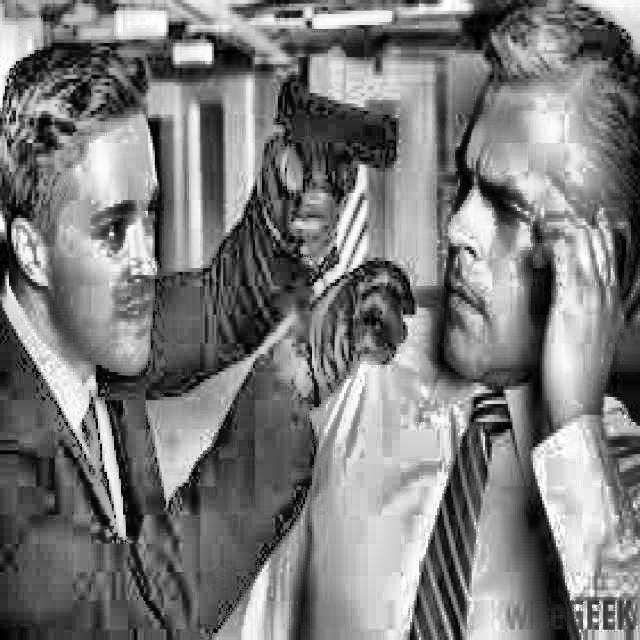pistol: (248, 44, 433, 305)
